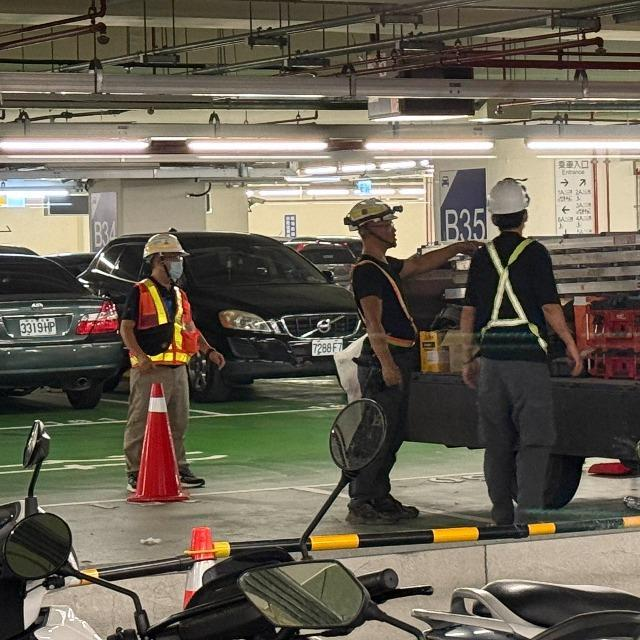Helmet: (343, 196, 409, 248), (485, 176, 539, 232), (140, 233, 191, 279)
Vest: (469, 237, 554, 354), (348, 254, 423, 358), (126, 281, 196, 371)
